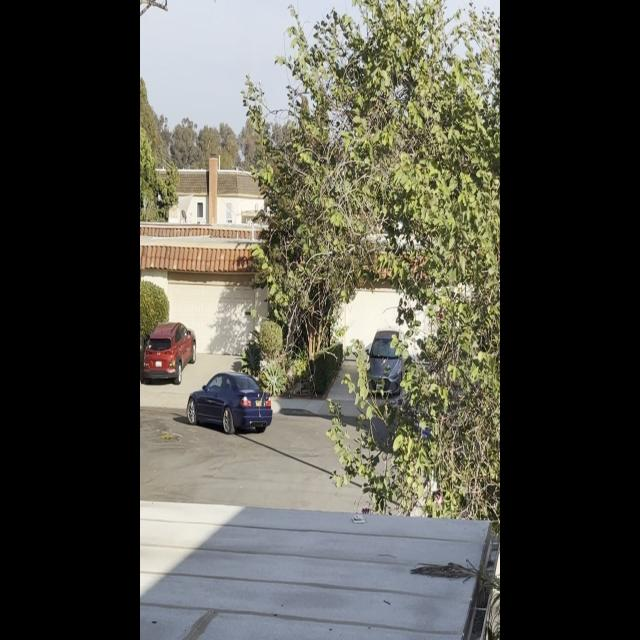Carbeetle: (186, 364, 274, 442)
Civilian: (140, 318, 199, 383), (363, 320, 409, 403)
